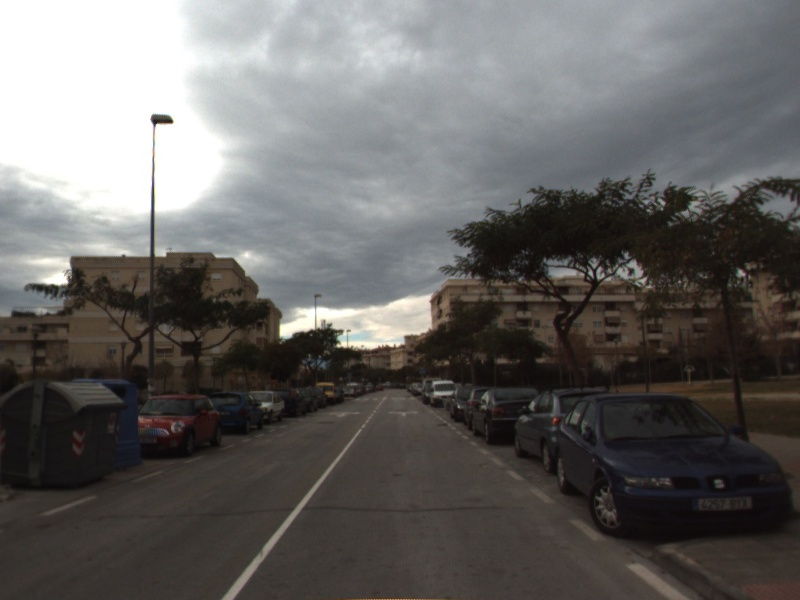LEFT_RIGHT: (386, 408, 421, 418)
